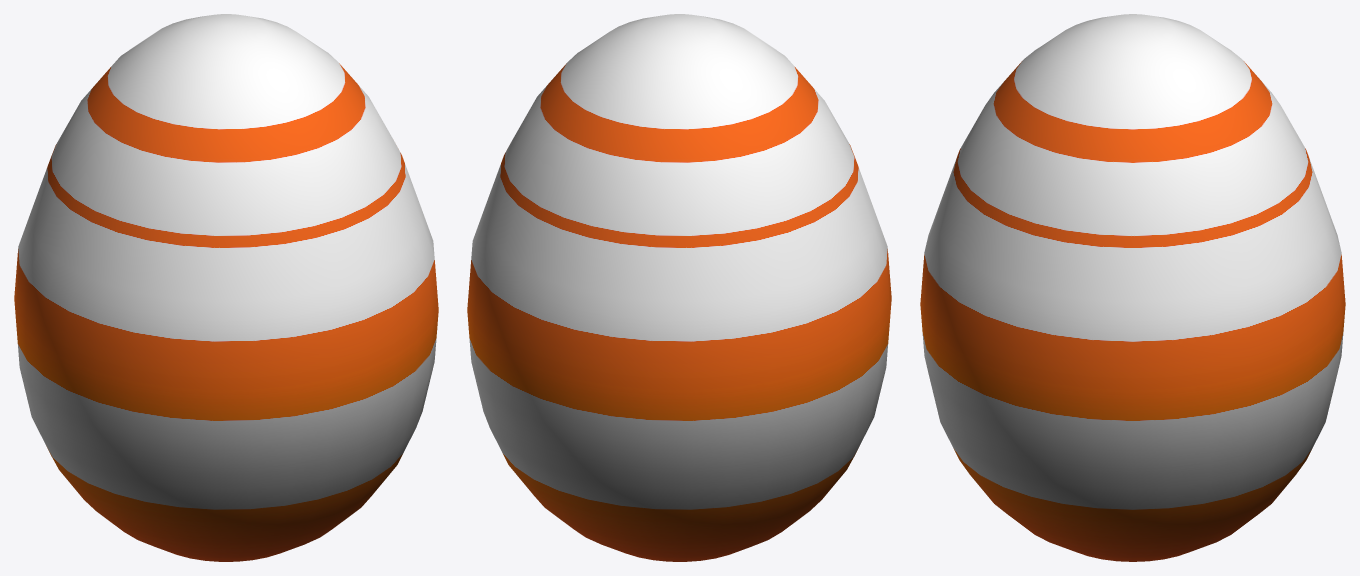
File: egg07.glb
The picture shows the model from 3 angles, left to right: view 1: azimuth 30°, elevation 25°; view 2: azimuth 150°, elevation 25°; view 3: azimuth 270°, elevation 25°; orthographic projection.
Visible parts, largest first — view 1: Sphere001; view 2: Sphere001; view 3: Sphere001.
Part boxes in pixels (<box>): Sphere001: <box>14,14,438,561</box>; Sphere001: <box>467,14,891,561</box>; Sphere001: <box>920,14,1345,561</box>.
Bounding box in the file's own units: 0.7237 × 0.9744 × 0.7237.
Materials: 1 (1 with a texture image).
